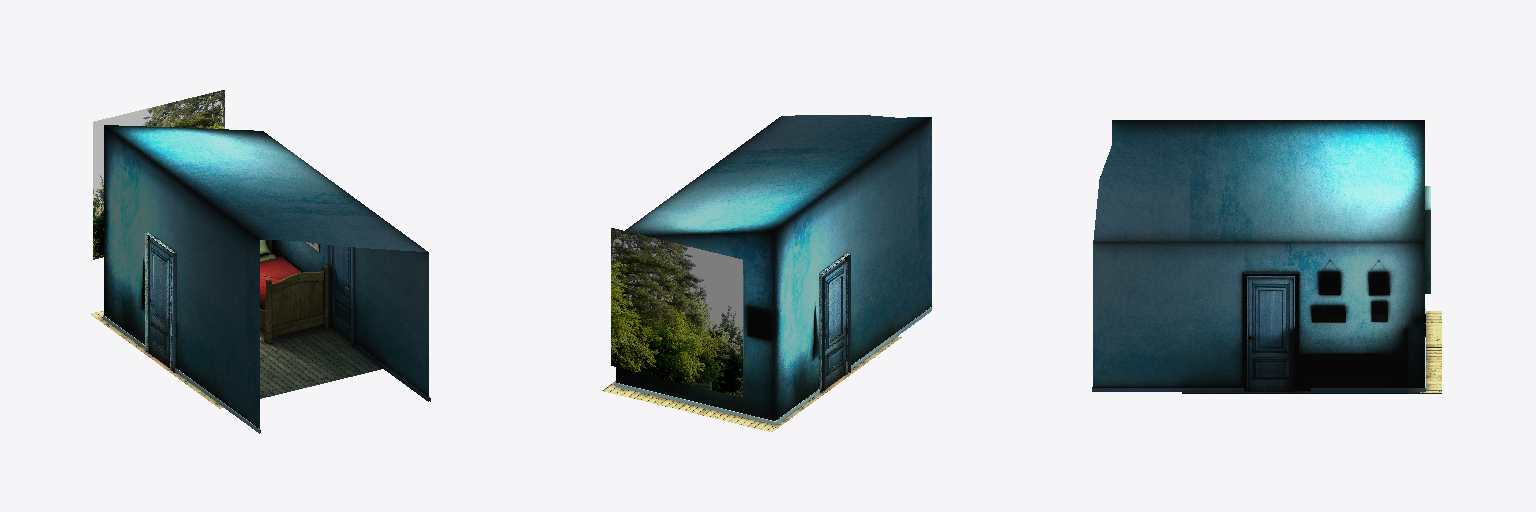
3 renders of one model, left to right at view 1: azimuth 30°, elevation 25°; view 2: azimuth 150°, elevation 25°; view 3: azimuth 270°, elevation 25°, orthographic.
Parts seen in each view (by area): view 1: walls, rest, FLOOR, Doors, back, bad, bad_for; view 2: walls, rest, back, Doors, FLOOR; view 3: walls, rest, Doors, FLOOR.
Boxes of the visible parts, <box> form: walls: <box>104,125,428,428</box>; rest: <box>103,125,430,433</box>; FLOOR: <box>91,310,382,408</box>; Doors: <box>145,232,353,371</box>; back: <box>93,90,224,259</box>; bad: <box>260,240,327,343</box>; bad_for: <box>260,240,301,309</box>; walls: <box>616,117,931,420</box>; rest: <box>615,115,931,424</box>; back: <box>611,228,742,397</box>; Doors: <box>819,253,850,392</box>; FLOOR: <box>602,336,901,431</box>; walls: <box>1093,186,1430,390</box>; rest: <box>1092,120,1425,391</box>; Doors: <box>1243,272,1298,391</box>; FLOOR: <box>1182,311,1441,393</box>.
Size of the model in its own units: 3.54 by 3.86 by 6.77.
15 materials, 15 textured.